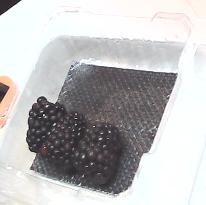berry: (38, 112, 87, 170), (73, 124, 120, 184), (28, 97, 69, 151)
